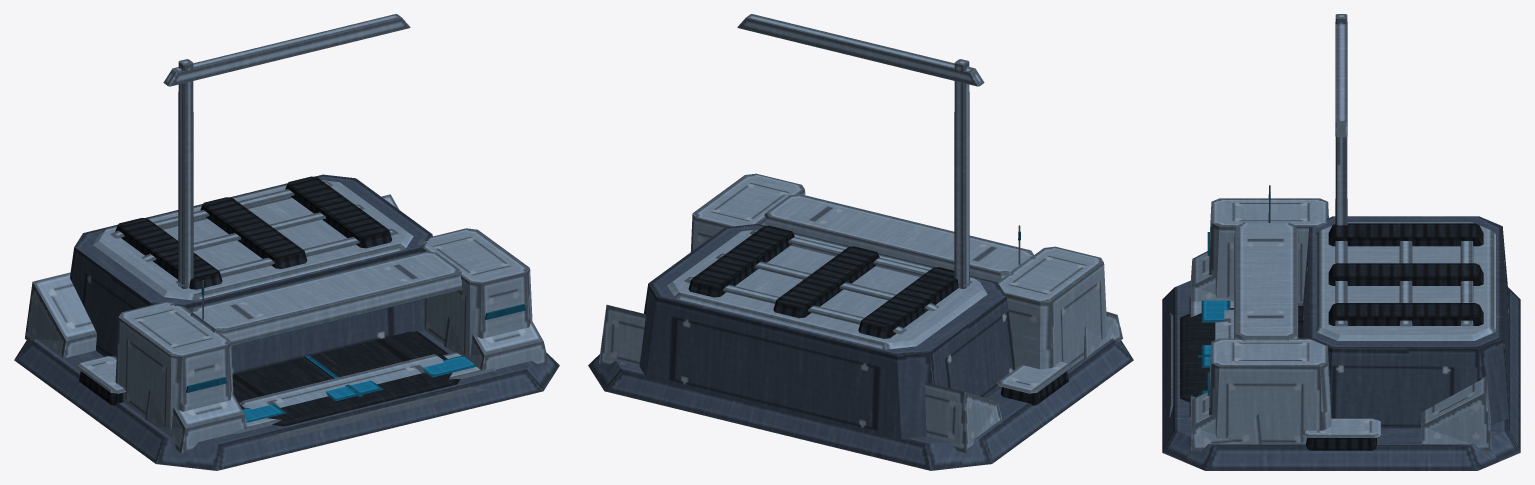
Rendered from building-naval_yard.fbx.
3 views of the same model, side by side, from view 1: azimuth 30°, elevation 25°; view 2: azimuth 150°, elevation 25°; view 3: azimuth 270°, elevation 25° (orthographic). The views are drawn at different scales.
Parts seen in each view (by area): view 1: building-naval_yard; view 2: building-naval_yard; view 3: building-naval_yard.
Boxes of the visible parts, x1,y1,x2,y2 form: building-naval_yard: (14,14,559,470); building-naval_yard: (588,14,1133,470); building-naval_yard: (1162,14,1520,470).
Size of the model in its own units: 3640 by 2800 by 2912.
Materials: 1 (1 with a texture image).
